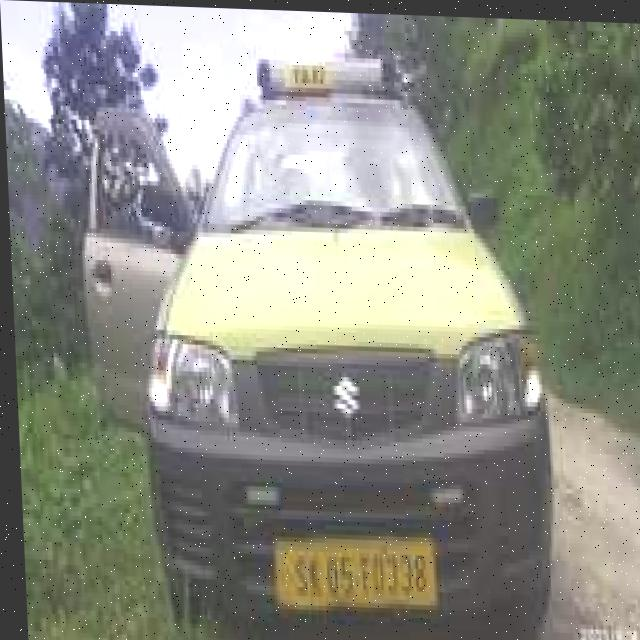plate: (265, 528, 437, 616)
